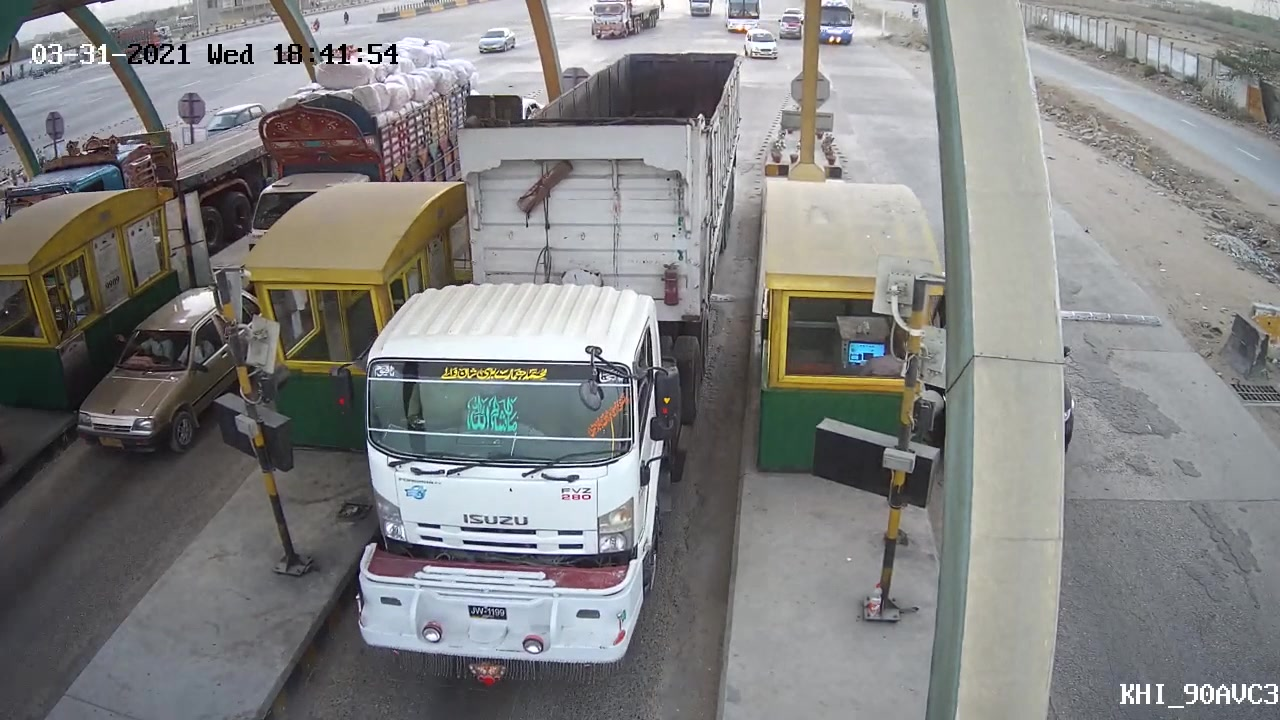F5: (324, 44, 748, 690)
